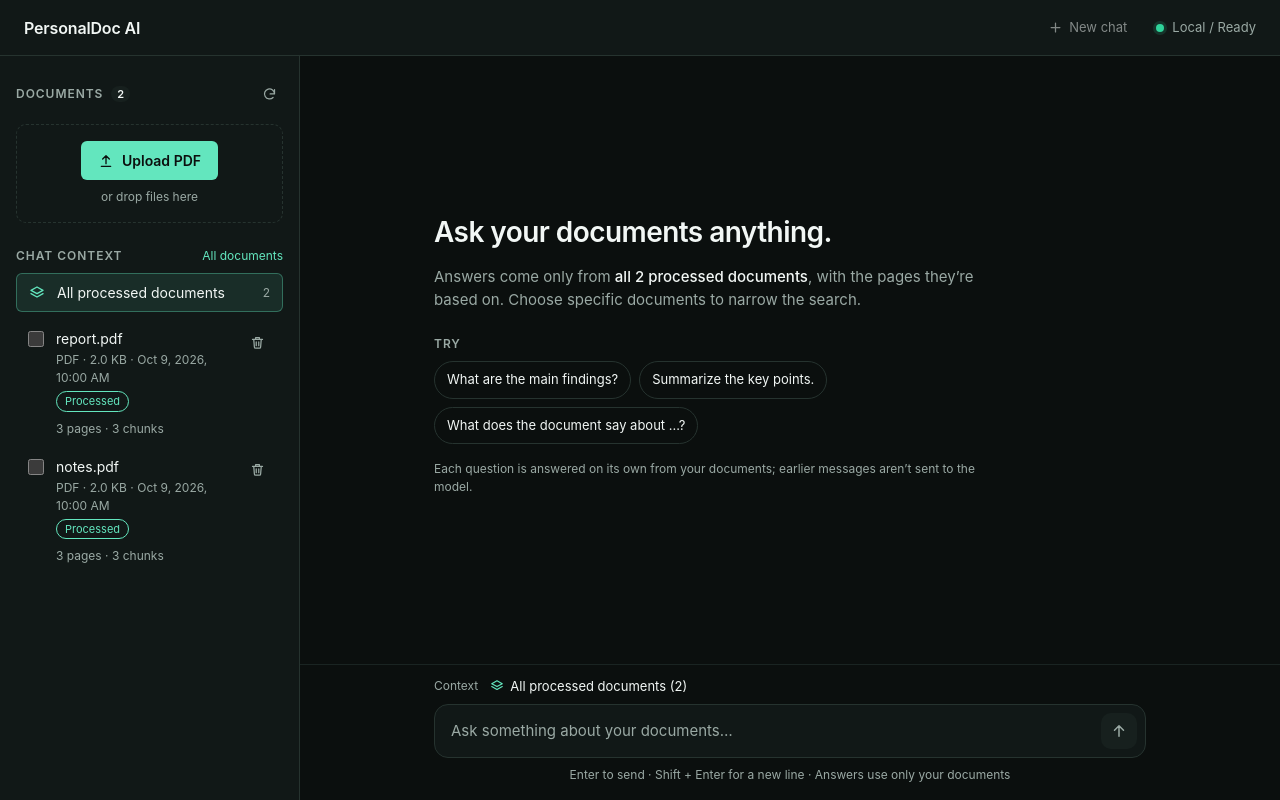
Test: document selection › selects, deselects and clears documents, and shows the context everywhere
Expected: the text "All processed documents (2)" is shown, [490,676,687,696]
Click the checkbox named "Ask about report.pdf".
click(36, 339)  # box [28,331,44,347]
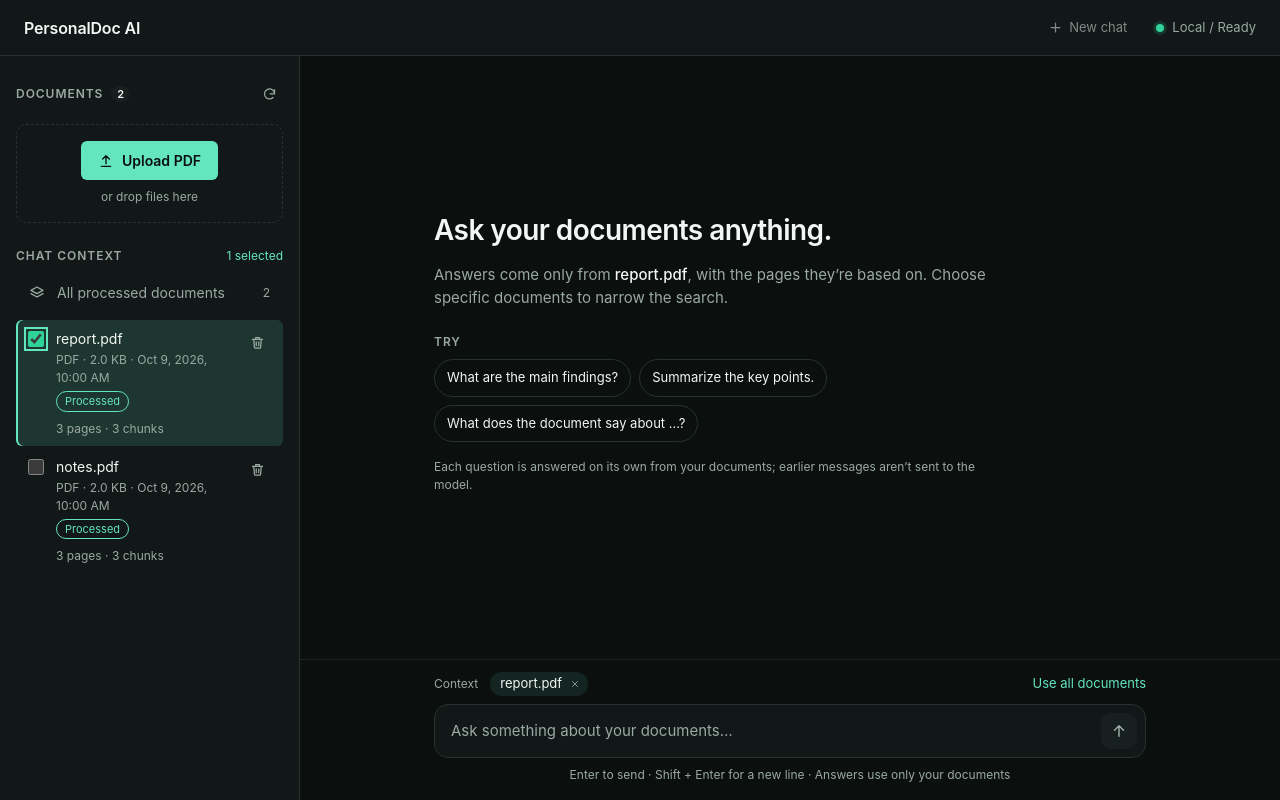
Click the checkbox named "Ask about notes.pdf".
click(36, 466)  # box [28,458,44,474]
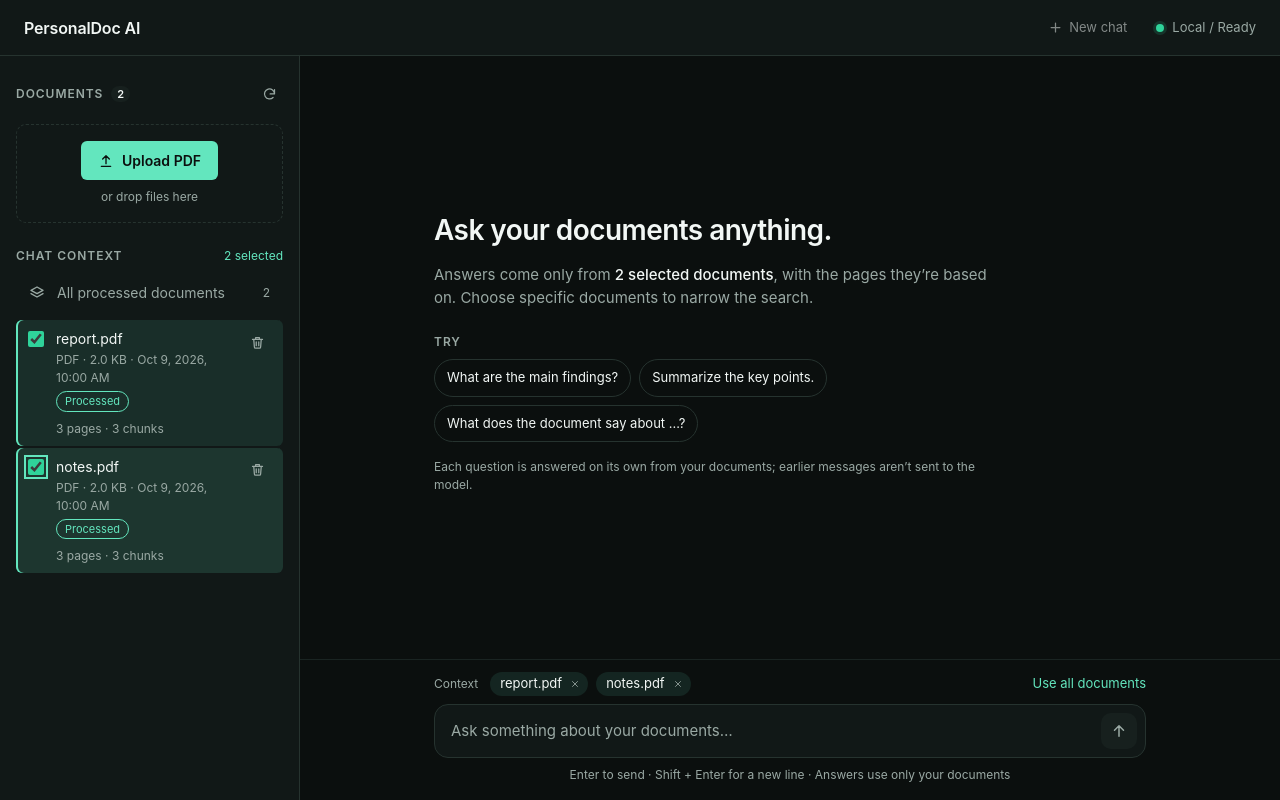
Result: the checkbox named "Ask about report.pdf" is checked at [28,331,44,347]
Result: the checkbox named "Ask about notes.pdf" is checked
Result: the text "2 selected" is shown at [224,247,283,265]
Click the checkbox named "Ask about notes.pdf".
click(36, 466)  # box [28,458,44,474]
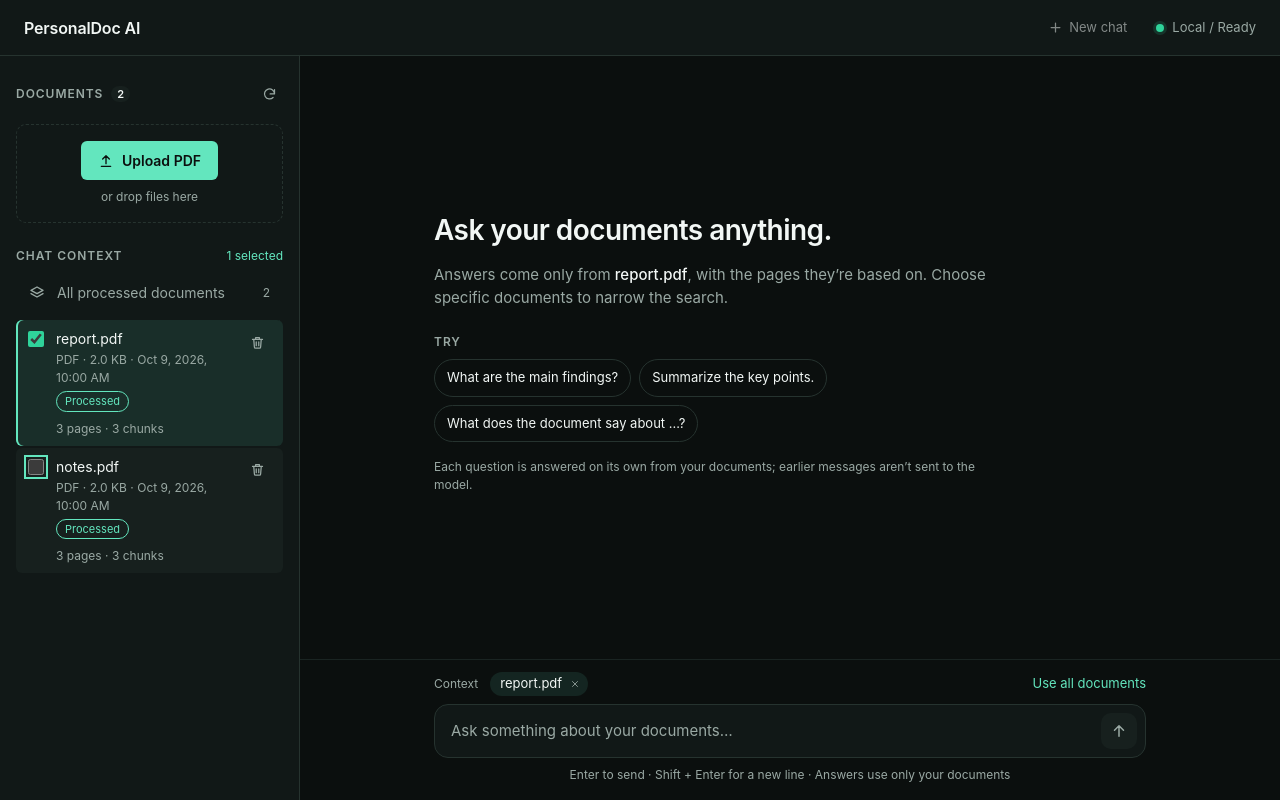
Result: the checkbox named "Ask about notes.pdf" is not checked at [28,458,44,474]
Result: the text "1 selected" is shown at [226,247,283,265]
Click the button "Use all documents".
click(1089, 684)  # box [1032,674,1146,694]
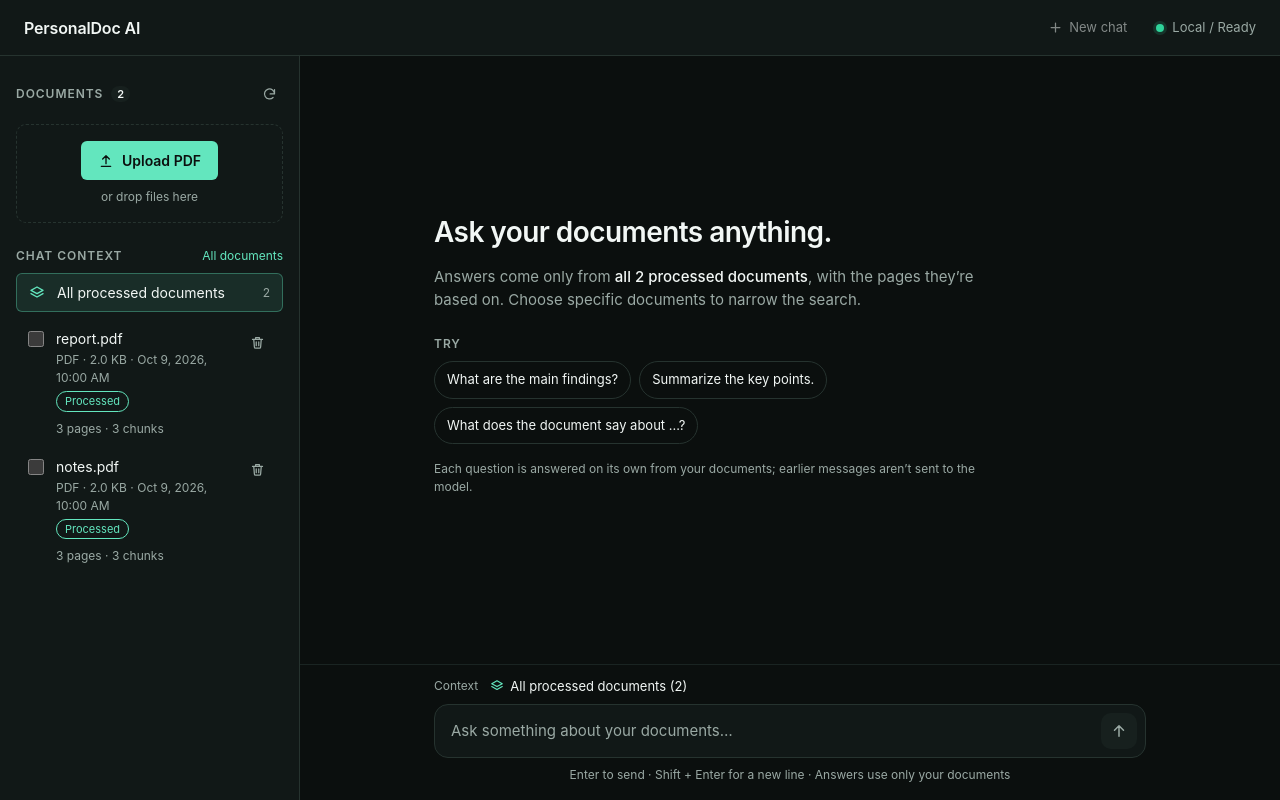
Result: the checkbox named "Ask about report.pdf" is not checked at [28,331,44,347]
Result: the text "All processed documents (2)" is shown at [490,676,687,696]
